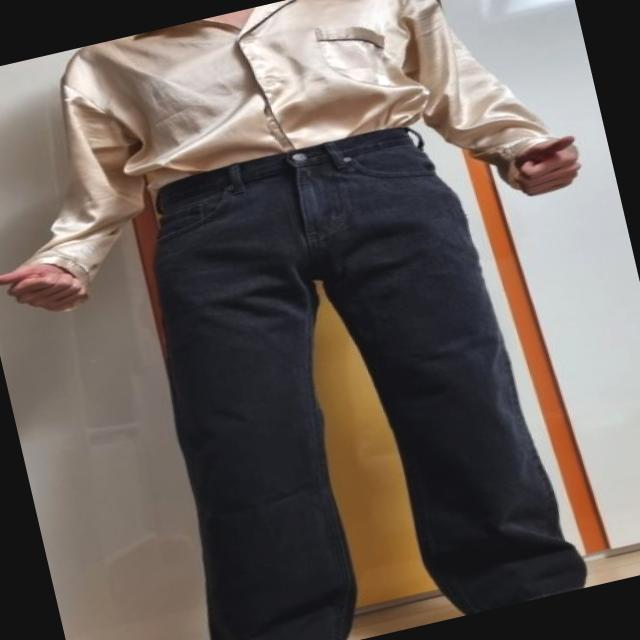denimpants: (100, 98, 591, 640)
shirt: (0, 0, 561, 297)
